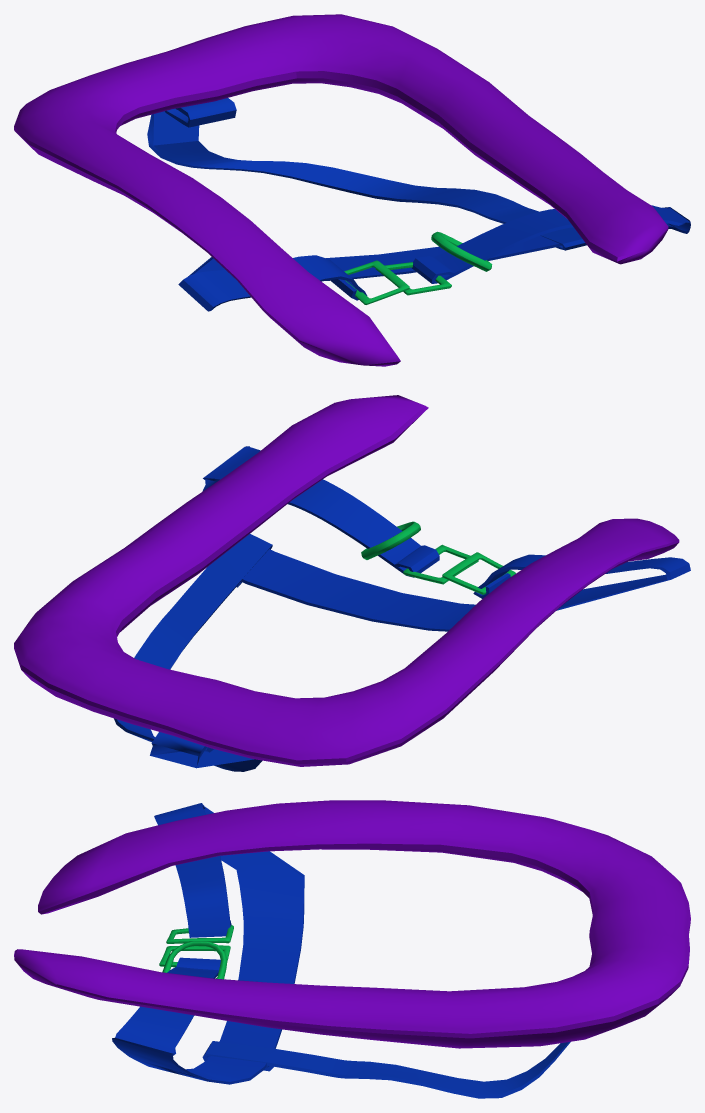
3 views of the same model, one above another, from view 1: azimuth 30°, elevation 25°; view 2: azimuth 150°, elevation 25°; view 3: azimuth 270°, elevation 25° (orthographic). The views are drawn at different scales.
Visible parts, largest first — view 1: ppe_lifejacket; view 2: ppe_lifejacket; view 3: ppe_lifejacket.
Part boxes in pixels (box(x1,y1,x2,y2)): ppe_lifejacket: box(14, 14, 690, 366); ppe_lifejacket: box(14, 395, 690, 771); ppe_lifejacket: box(14, 800, 690, 1098).
Bounding box in the file's own units: 0.4159 × 0.122 × 0.5339.
